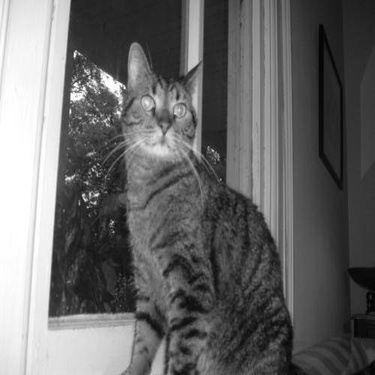cat: (78, 23, 311, 368)
